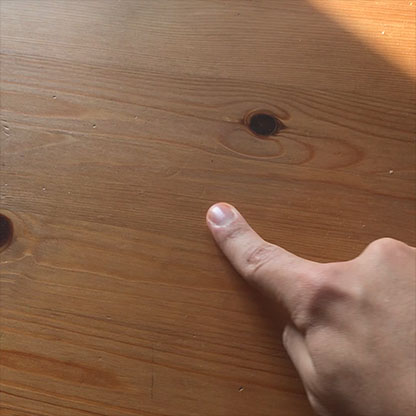fingertip: (196, 195, 249, 240)
